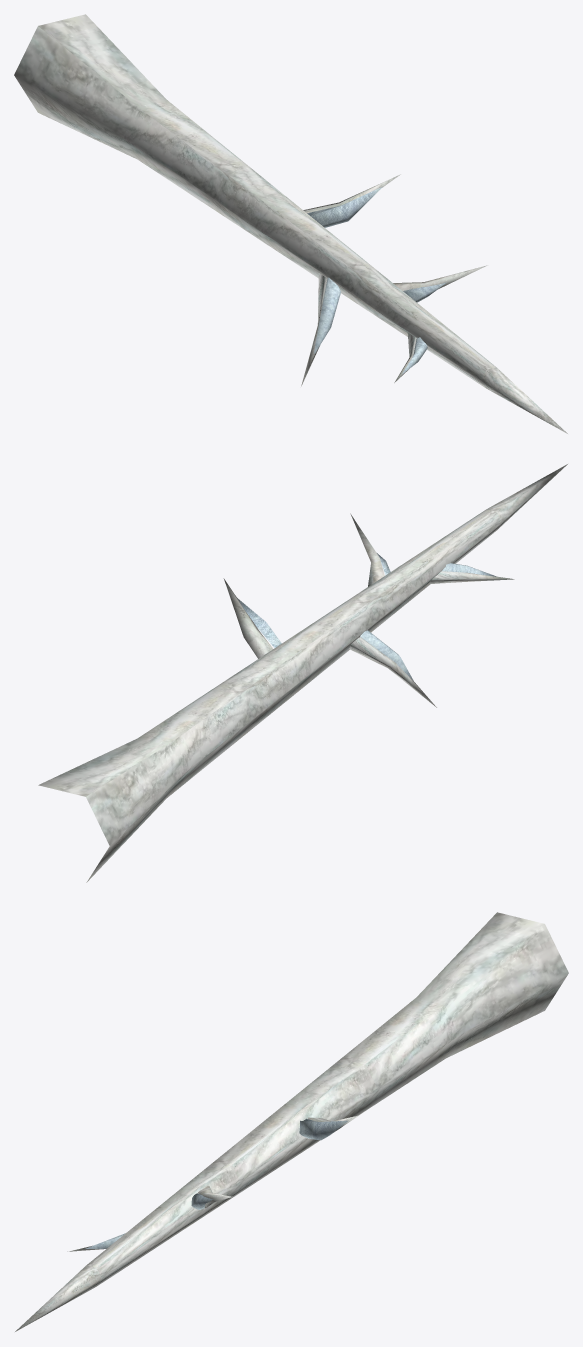
The picture shows the model from 3 angles, top to bottom: view 1: azimuth 30°, elevation 25°; view 2: azimuth 150°, elevation 25°; view 3: azimuth 330°, elevation 25°; orthographic projection.
Parts seen in each view (by area): view 1: model_Object15; view 2: model_Object15; view 3: model_Object15.
Part boxes in pixels (x1=…): model_Object15: x1=14, y1=14, x2=567, y2=433; model_Object15: x1=38, y1=464, x2=567, y2=882; model_Object15: x1=15, y1=912, x2=568, y2=1331.
Bounding box in the file's own units: 3.49 × 2.84 × 19.45.
Materials: 2 (2 with a texture image).
